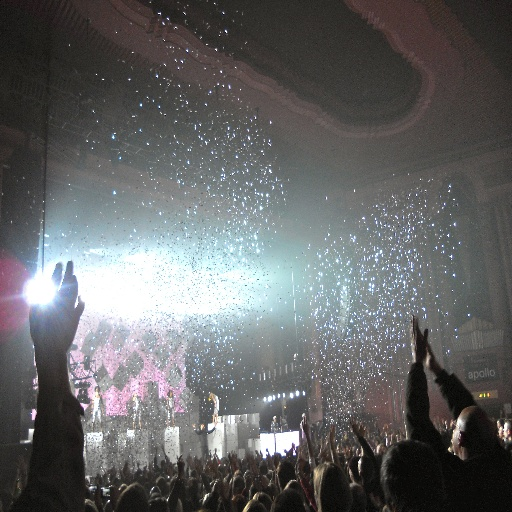hand: (23, 263, 84, 435), (408, 312, 427, 365), (417, 325, 438, 372), (357, 418, 369, 441), (175, 454, 184, 476), (211, 477, 221, 495), (301, 413, 309, 434), (350, 416, 357, 439), (328, 423, 336, 443)
